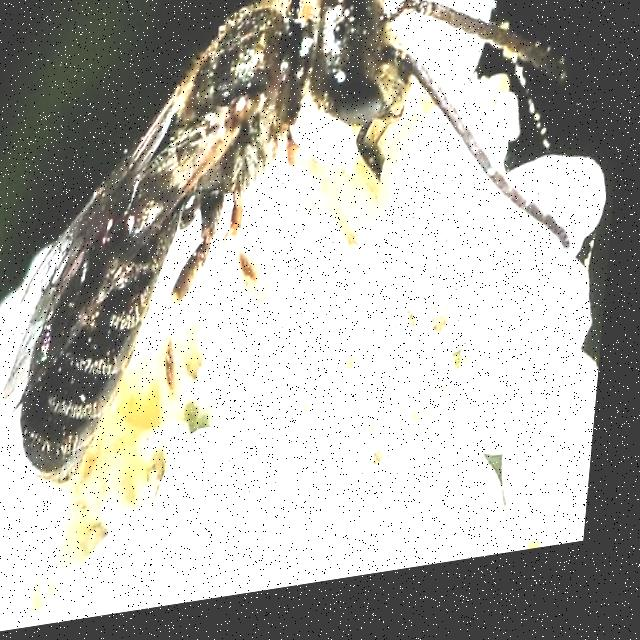Lasioglossum: (0, 0, 607, 550)
